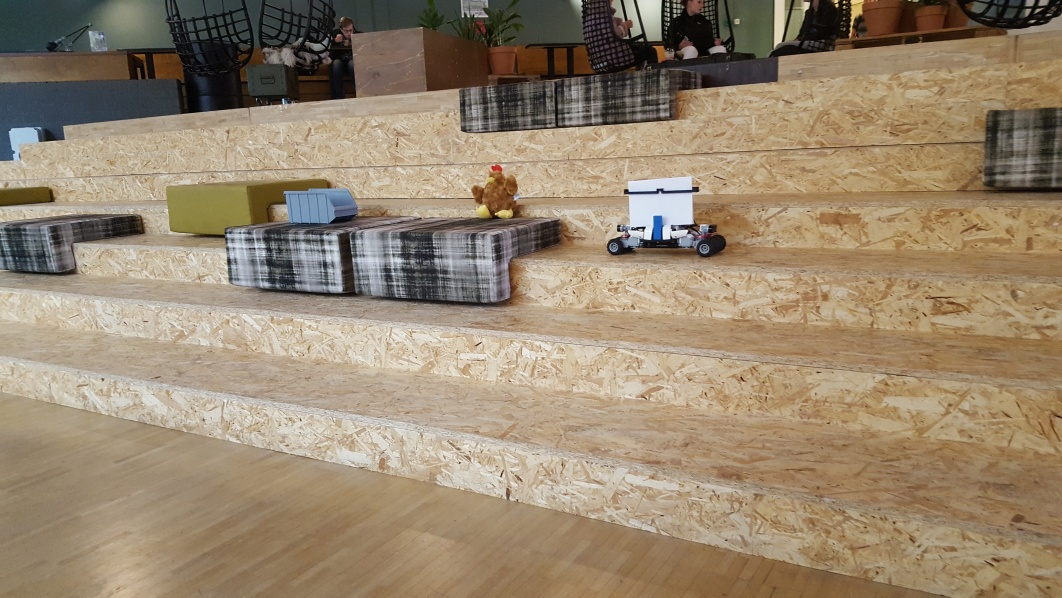beam: (650, 212, 661, 247)
chicken: (472, 163, 519, 221)
tray: (283, 186, 361, 223)
